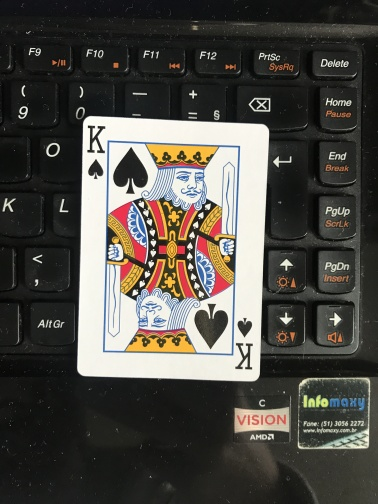king: (77, 116, 269, 384)
